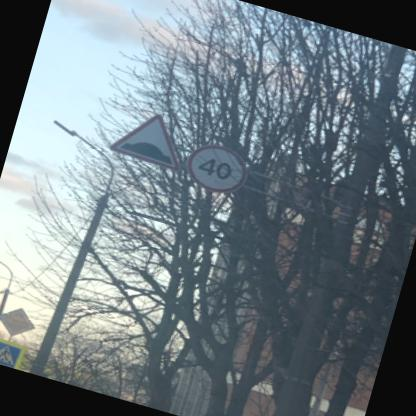crosswalk: (0, 336, 24, 368)
speedlimit: (180, 136, 250, 198)
